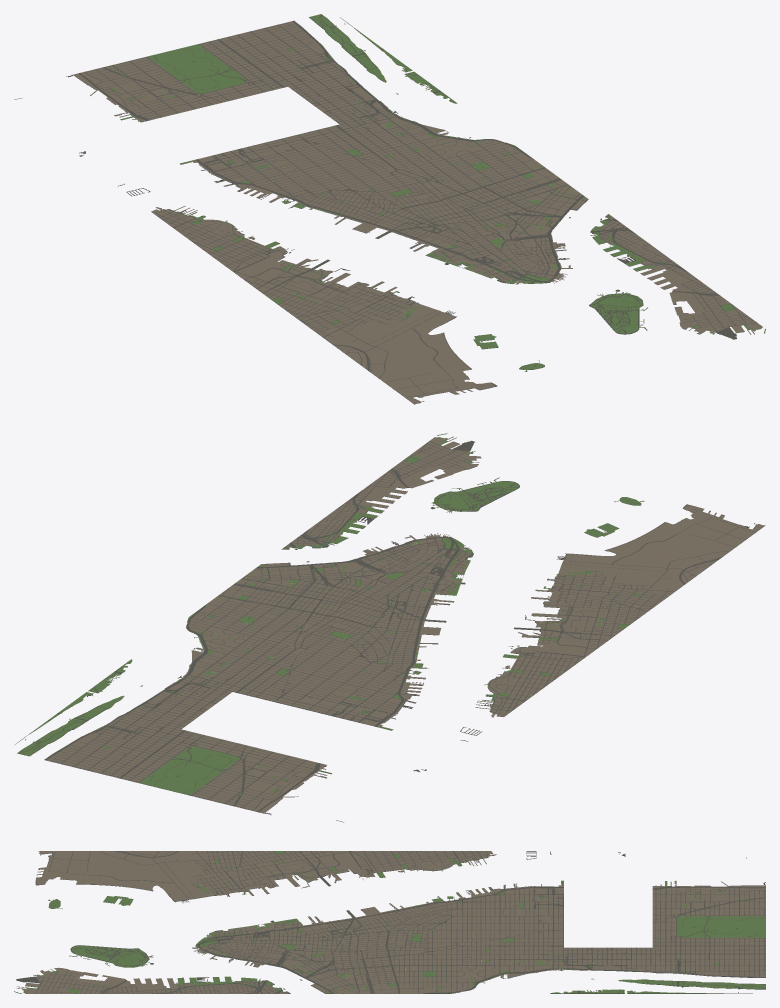
Rendered from land.glb.
3 renders of one model, top to bottom at view 1: azimuth 30°, elevation 25°; view 2: azimuth 150°, elevation 25°; view 3: azimuth 270°, elevation 25°, orthographic. The views are drawn at different scales.
Visible parts, largest first — view 1: HB_land; view 2: HB_land; view 3: HB_land.
Boxes of the visible parts, x1,y1,x2,y2 form: HB_land: [14, 14, 765, 404]; HB_land: [15, 433, 765, 822]; HB_land: [14, 851, 765, 993].
Size of the model in its own units: 5550 by 4.52 by 12350.
Materials: 4 (3 with a texture image).
